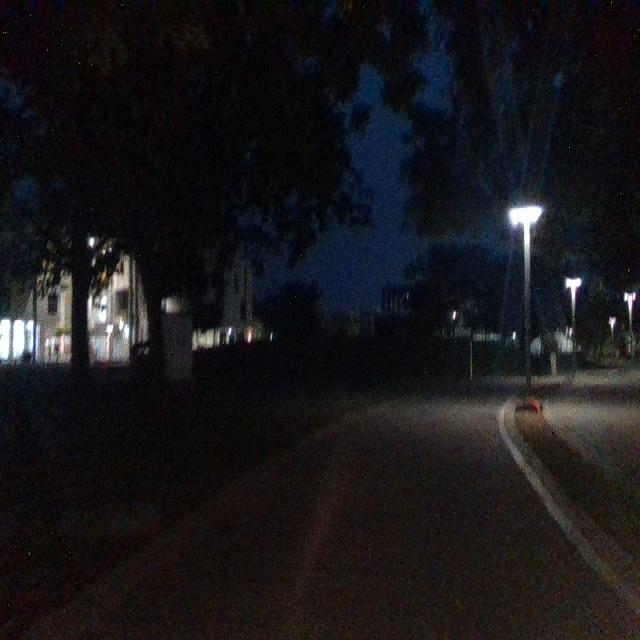lane: (66, 400, 639, 640)
